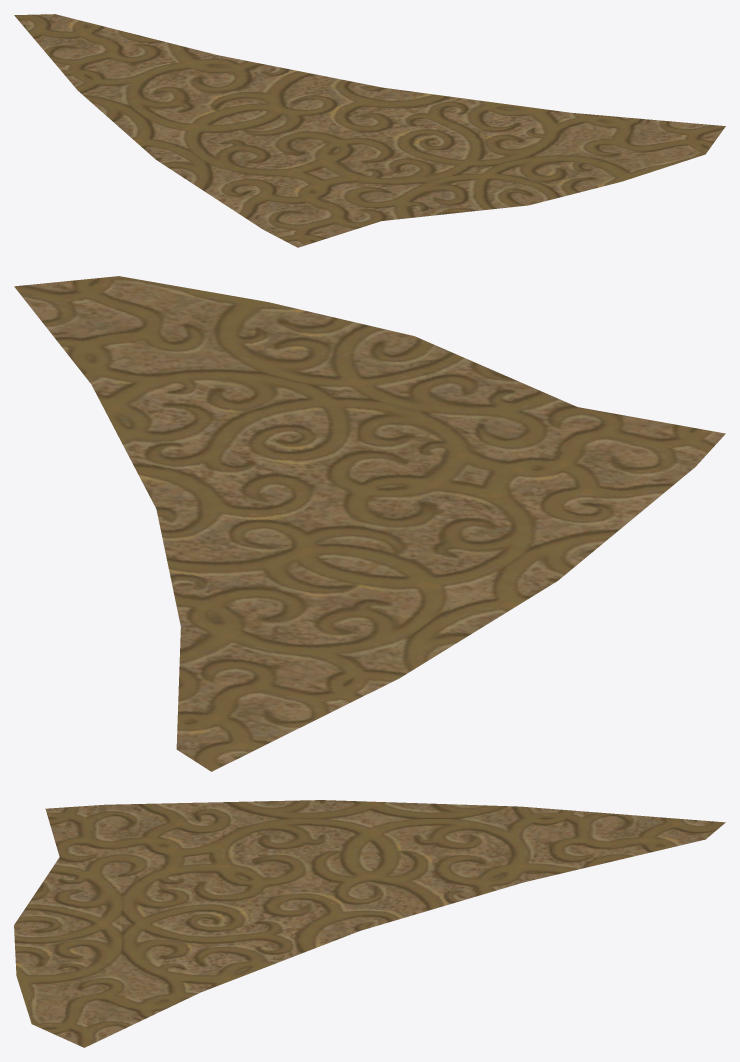
Rendered from EKH_THRONE_PS_TH_LINE25.fbx.
3 renders of one model, top to bottom at view 1: azimuth 30°, elevation 25°; view 2: azimuth 150°, elevation 25°; view 3: azimuth 270°, elevation 25°, orthographic. The views are drawn at different scales.
Visible parts, largest first — view 1: EKH_THRONE_PS_TH_LINE25; view 2: EKH_THRONE_PS_TH_LINE25; view 3: EKH_THRONE_PS_TH_LINE25.
Boxes of the visible parts, <box> form: EKH_THRONE_PS_TH_LINE25: <box>14,14,725,247</box>; EKH_THRONE_PS_TH_LINE25: <box>14,276,725,771</box>; EKH_THRONE_PS_TH_LINE25: <box>14,800,725,1047</box>.
Size of the model in its own units: 47265 by 0.0246 by 57360.
Materials: 1 (1 with a texture image).
